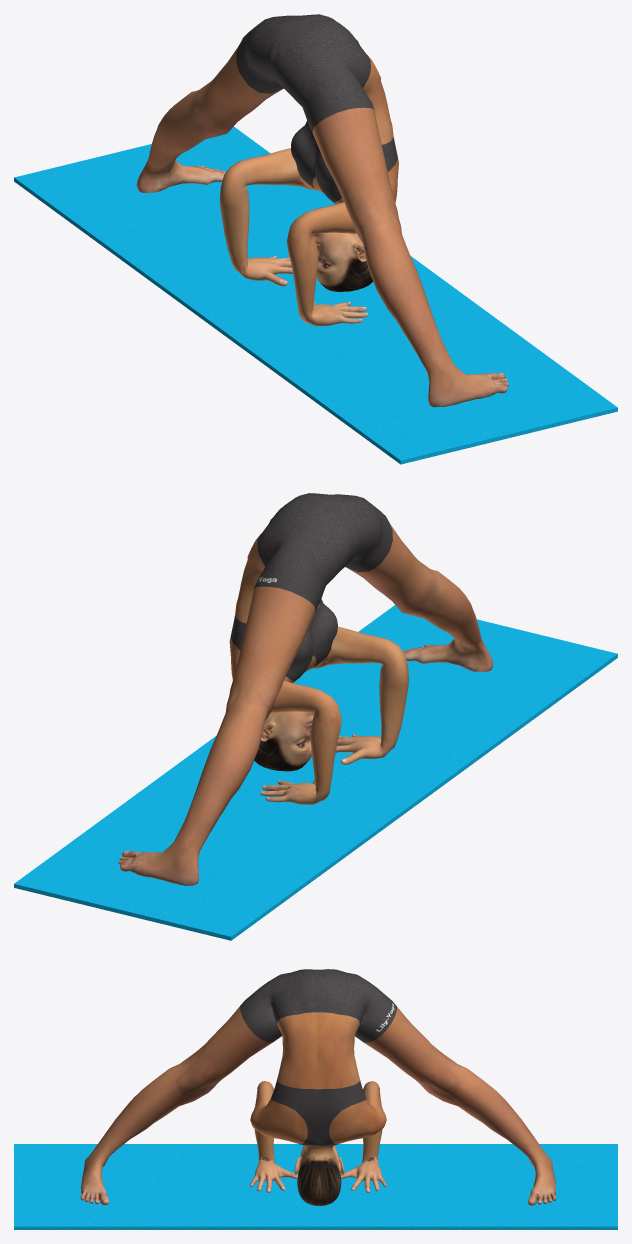
The model's file is prasarita_padottanasana.glb.
3 renders of one model, top to bottom at view 1: azimuth 30°, elevation 25°; view 2: azimuth 150°, elevation 25°; view 3: azimuth 270°, elevation 25°, orthographic. The views are drawn at different scales.
Visible parts, largest first — view 1: Mat-one-piece_jpg-material, Lily_Texture01_06_2016_jpg-material; view 2: Mat-one-piece_jpg-material, Lily_Texture01_06_2016_jpg-material; view 3: Mat-one-piece_jpg-material, Lily_Texture01_06_2016_jpg-material.
Boxes of the visible parts, x1,y1,x2,y2 form: Mat-one-piece_jpg-material: (14,126,617,464); Lily_Texture01_06_2016_jpg-material: (136,14,508,407); Mat-one-piece_jpg-material: (14,605,617,940); Lily_Texture01_06_2016_jpg-material: (118,493,493,885); Mat-one-piece_jpg-material: (14,1144,617,1229); Lily_Texture01_06_2016_jpg-material: (80,969,556,1205).
Size of the model in its own units: 2 by 2.41 by 6.17.
3 materials, 2 textured.
